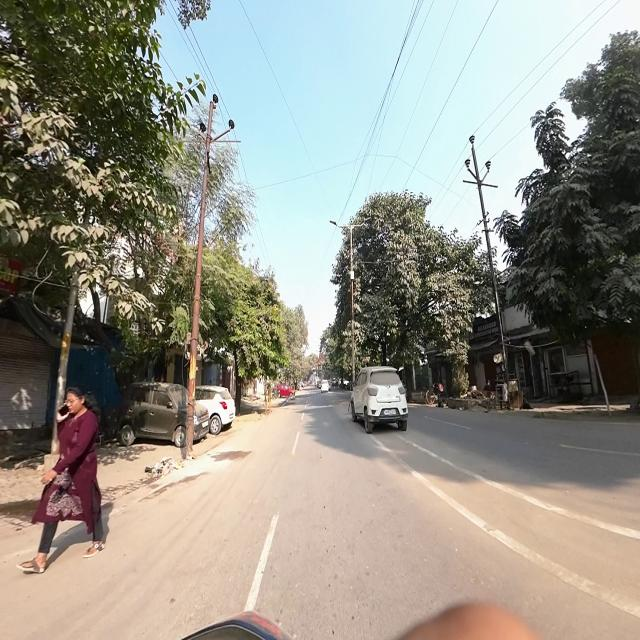Garbage: (155, 455, 181, 477)
